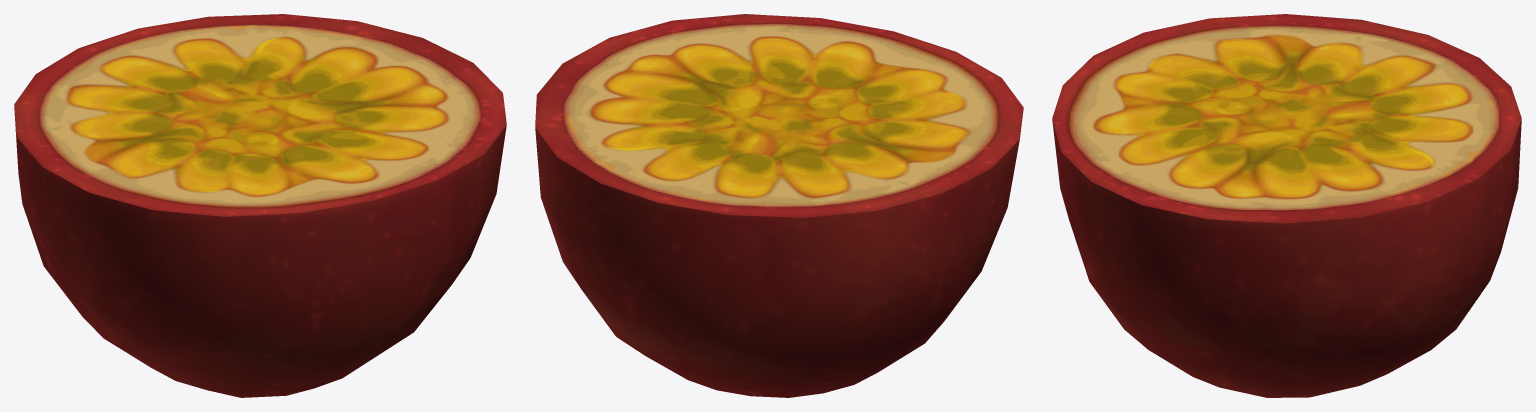
Rendered from SM_PassionFruitRedCutBottom.fbx.
3 renders of one model, left to right at view 1: azimuth 30°, elevation 25°; view 2: azimuth 150°, elevation 25°; view 3: azimuth 270°, elevation 25°, orthographic.
Visible parts, largest first — view 1: SM_PassionFruitRedCutBottom; view 2: SM_PassionFruitRedCutBottom; view 3: SM_PassionFruitRedCutBottom.
Boxes of the visible parts, x1=… form: SM_PassionFruitRedCutBottom: x1=14, y1=14, x2=506, y2=397; SM_PassionFruitRedCutBottom: x1=535, y1=14, x2=1023, y2=397; SM_PassionFruitRedCutBottom: x1=1052, y1=14, x2=1521, y2=397.
Bounding box in the file's own units: 10.5 × 6.08 × 9.94.
